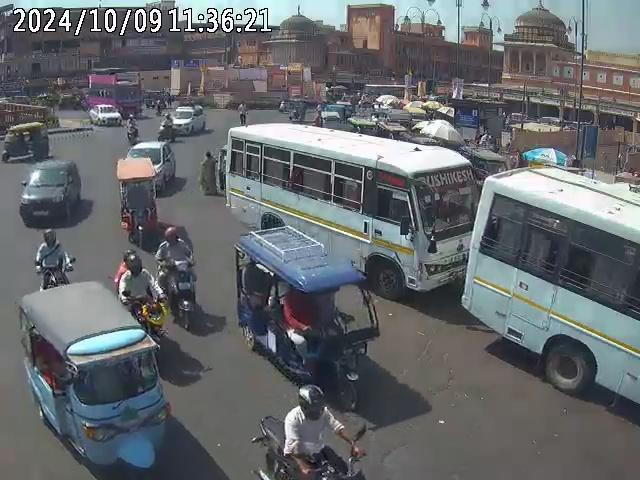auto: (15, 280, 170, 479), (232, 224, 380, 406), (113, 155, 158, 245), (0, 120, 49, 162)
bus: (458, 162, 637, 433), (225, 122, 477, 297)
car: (17, 158, 81, 225), (170, 105, 206, 135), (88, 102, 121, 126)
helmet: (295, 383, 328, 419), (41, 229, 57, 244)
motorbike-rider: (251, 382, 372, 479), (113, 250, 166, 337), (34, 229, 75, 290), (124, 118, 140, 145)
